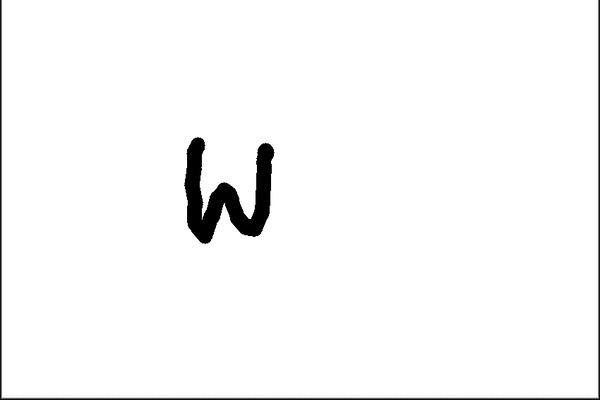w: (165, 120, 295, 255)
